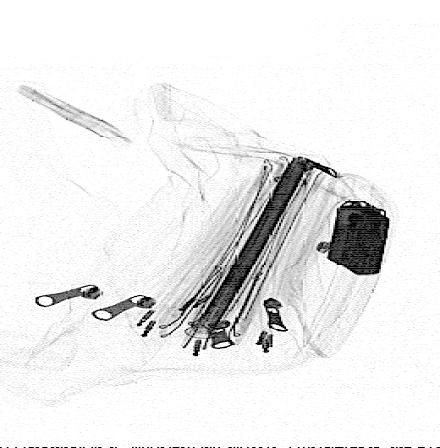Lighter: (326, 200, 391, 275)
